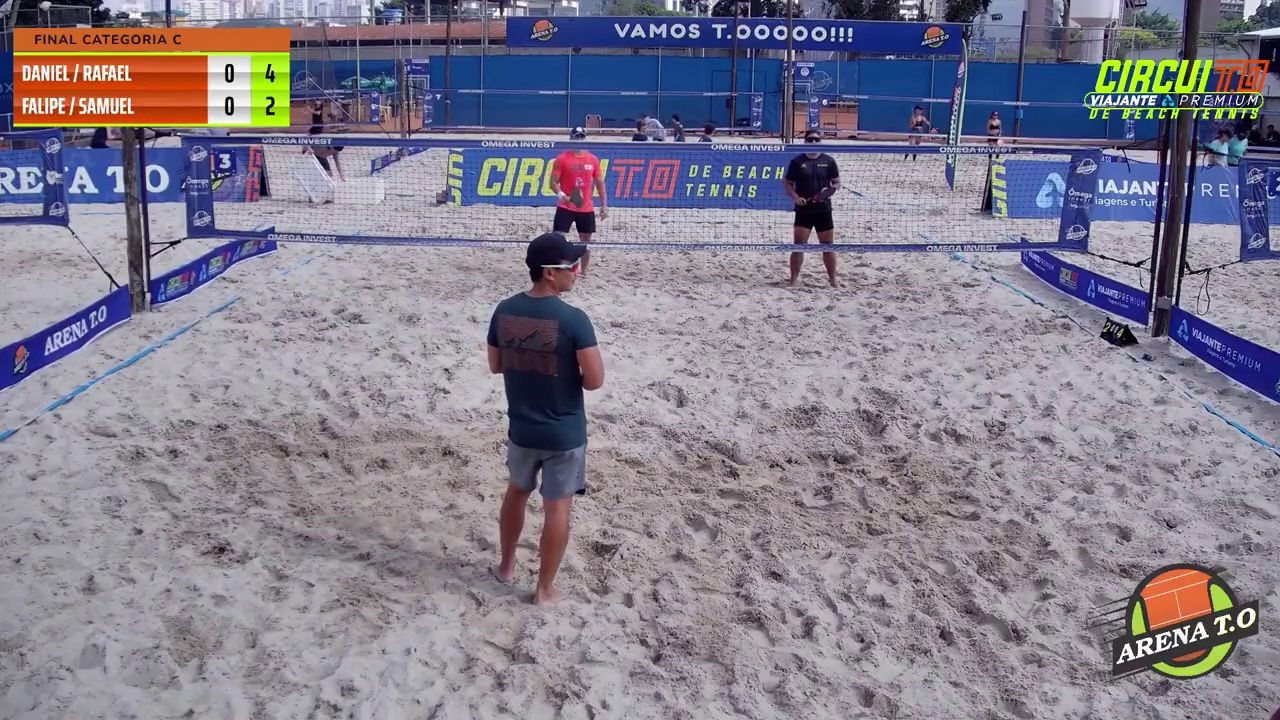court_line: (772, 0, 980, 544), (601, 0, 801, 463)
